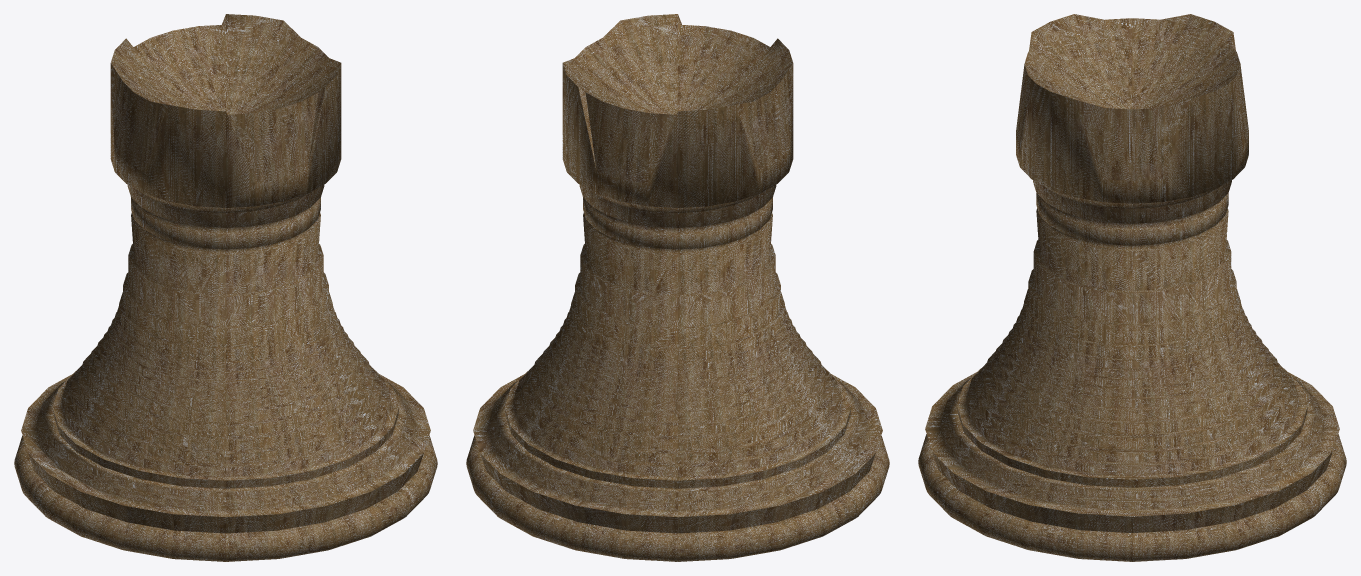
The model's file is rook.fbx.
3 renders of one model, left to right at view 1: azimuth 30°, elevation 25°; view 2: azimuth 150°, elevation 25°; view 3: azimuth 270°, elevation 25°, orthographic.
Parts seen in each view (by area): view 1: Group1; view 2: Group1; view 3: Group1.
Boxes of the visible parts, x1,y1,x2,y2 form: Group1: [14, 14, 437, 561]; Group1: [466, 14, 889, 561]; Group1: [918, 14, 1346, 561].
Size of the model in its own units: 747 by 807 by 747.
